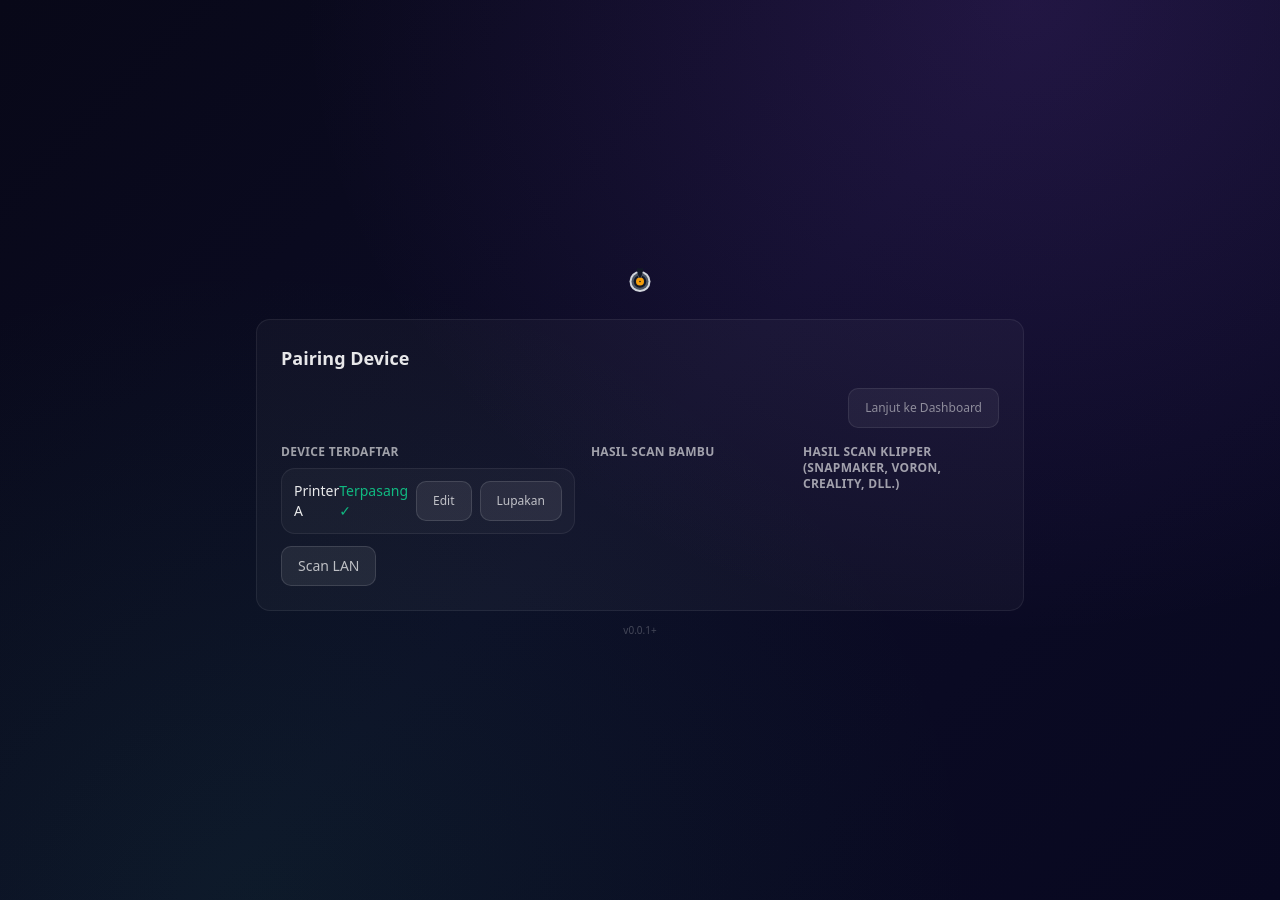
it: PairingScreen › forgetDevice gagal (IPC reject) -> tampilkan error, device TETAP Terpasang
Step 1. Click the button "Lupakan" → [521, 500], box x1=480 y1=480 x2=562 y2=520
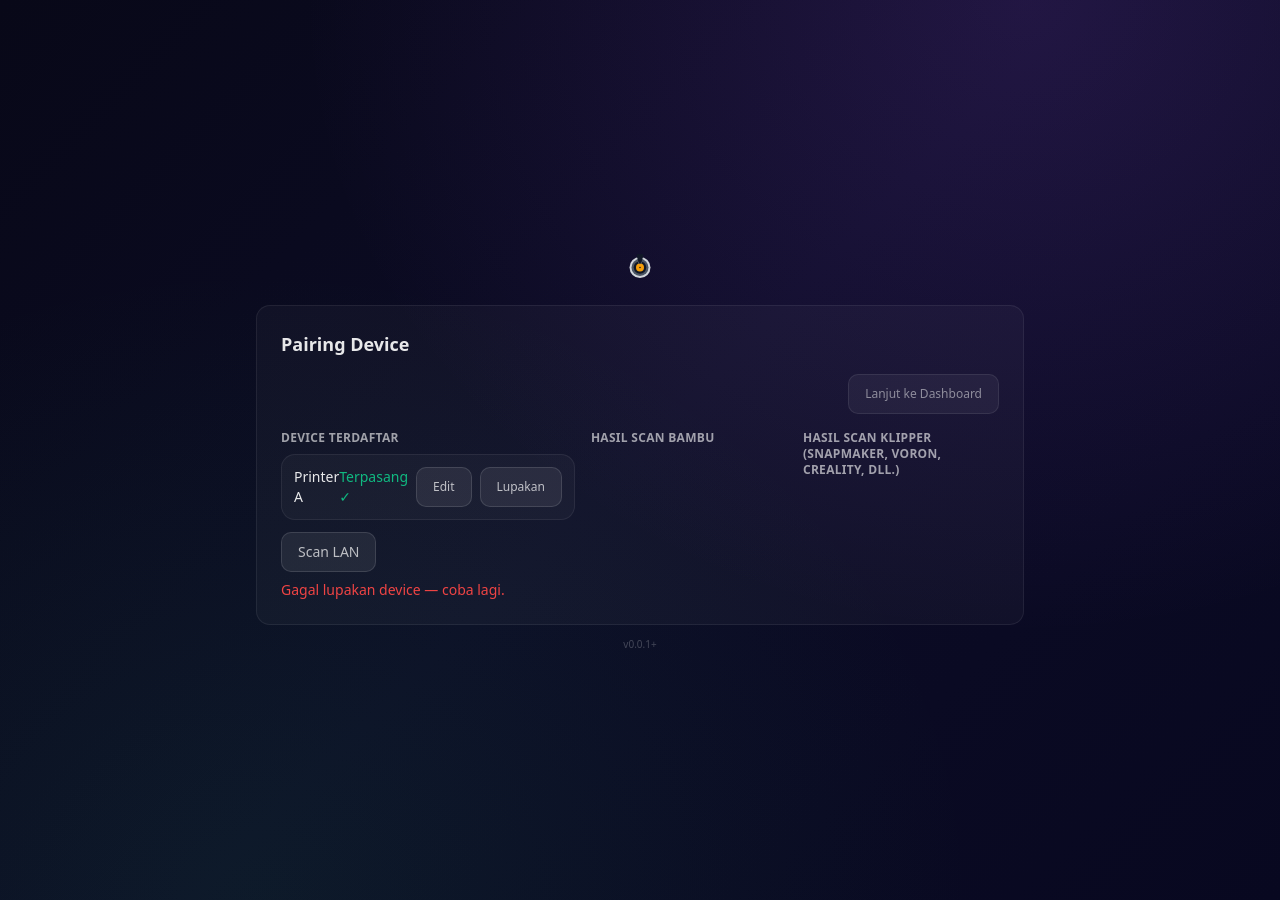
Expected: the text "Terpasang ✓" is shown, x1=339 y1=466 x2=408 y2=506
Expected: the message "Gagal lupakan device — coba lagi." is shown, x1=281 y1=580 x2=505 y2=598
